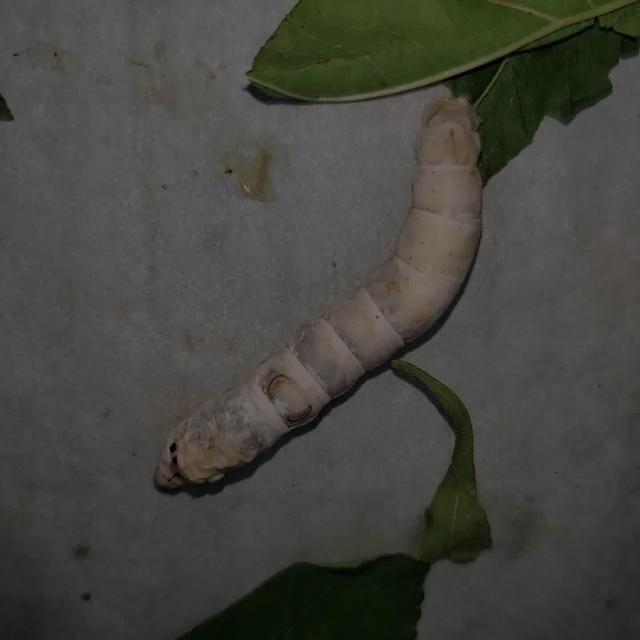Grasserie: (139, 77, 491, 501)
